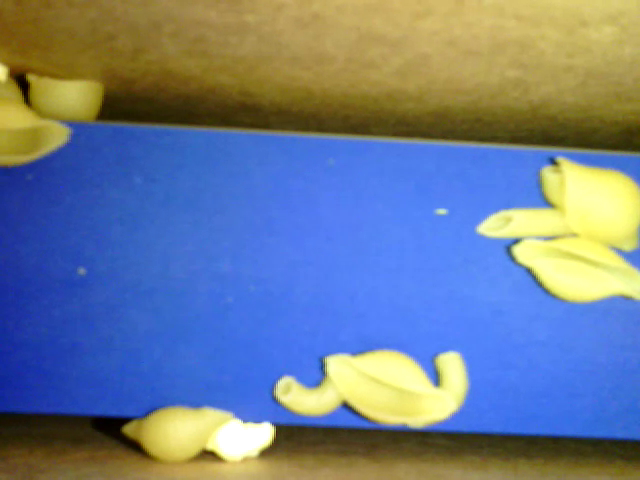elbow: (415, 349, 469, 427), (273, 373, 344, 416), (539, 166, 567, 203)
penne: (474, 207, 573, 238)
shell: (323, 349, 444, 423), (511, 236, 639, 304), (553, 154, 639, 252), (122, 406, 233, 462), (1, 103, 72, 168), (24, 69, 106, 123)
